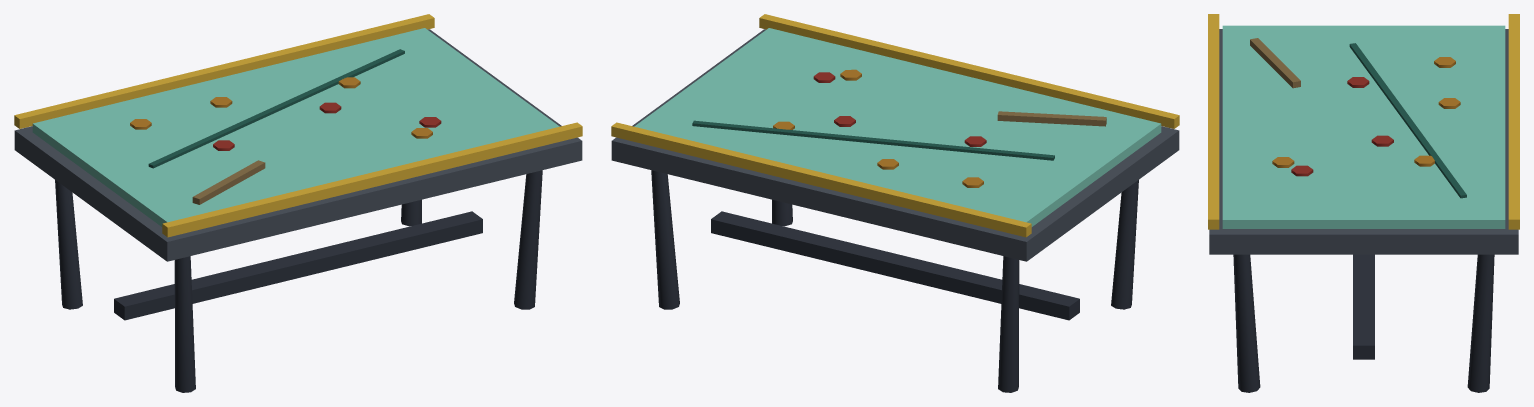
File: map_table.glb
3 renders of one model, left to right at view 1: azimuth 30°, elevation 25°; view 2: azimuth 150°, elevation 25°; view 3: azimuth 270°, elevation 25°, orthographic.
Visible parts, largest first — view 1: map_table; view 2: map_table; view 3: map_table.
Part boxes in pixels (<box>): map_table: <box>14,14,582,392</box>; map_table: <box>611,14,1179,392</box>; map_table: <box>1208,14,1519,392</box>.
Size of the model in its own units: 2.2 by 0.9404 by 1.41.
